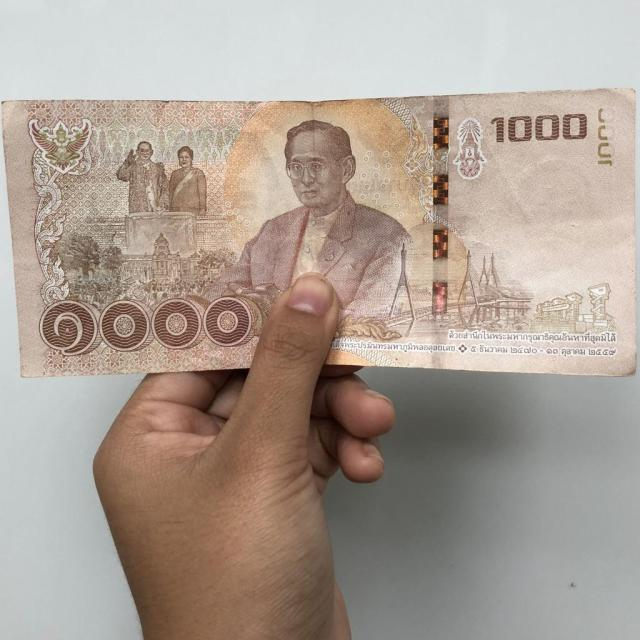THAI1000: (3, 89, 635, 377)
